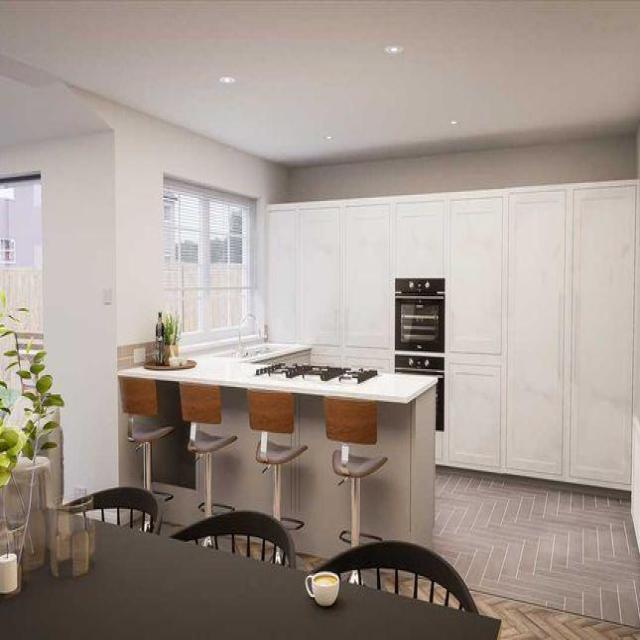Wall: (1, 99, 637, 490), (0, 1, 640, 165), (434, 468, 640, 639), (0, 60, 109, 145), (297, 557, 317, 569)
